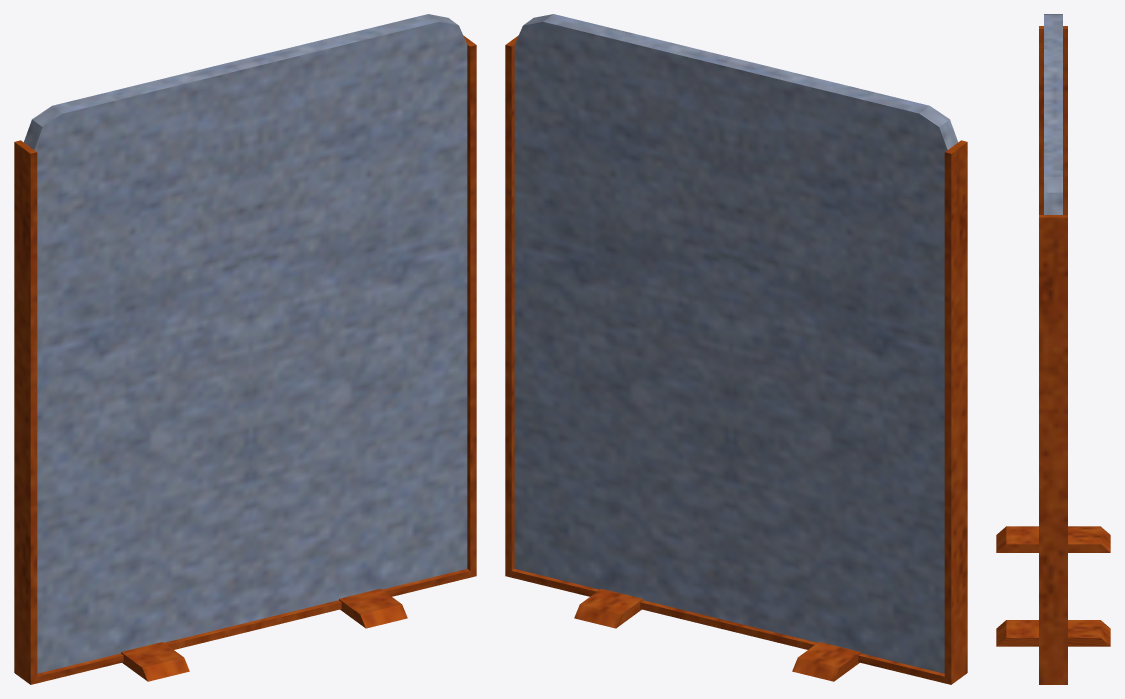
The model's file is divider_veneer_blue_half.fbx.
The picture shows the model from 3 angles, left to right: view 1: azimuth 30°, elevation 25°; view 2: azimuth 150°, elevation 25°; view 3: azimuth 270°, elevation 25°; orthographic projection. The views are drawn at different scales.
Visible parts, largest first — view 1: divider_veneer_blue_half; view 2: divider_veneer_blue_half; view 3: divider_veneer_blue_half.
Part boxes in pixels (left/top/right/bottom): divider_veneer_blue_half: left=14, top=14, right=476, bottom=684; divider_veneer_blue_half: left=505, top=14, right=967, bottom=684; divider_veneer_blue_half: left=996, top=14, right=1110, bottom=684.
Size of the model in its own units: 207 by 250 by 52.3.
1 material, 1 textured.
